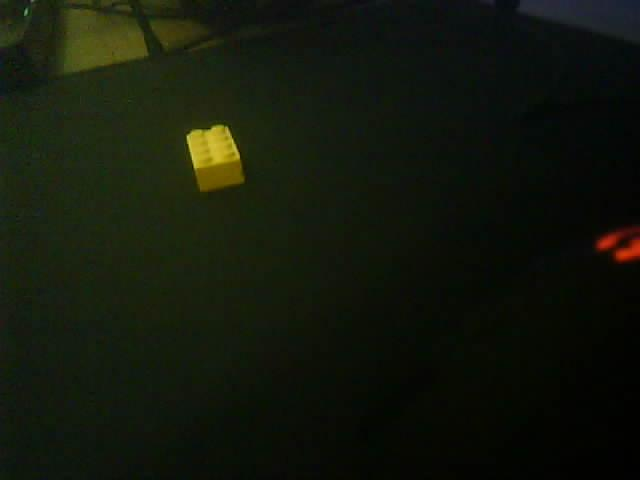lego: (186, 124, 246, 192)
